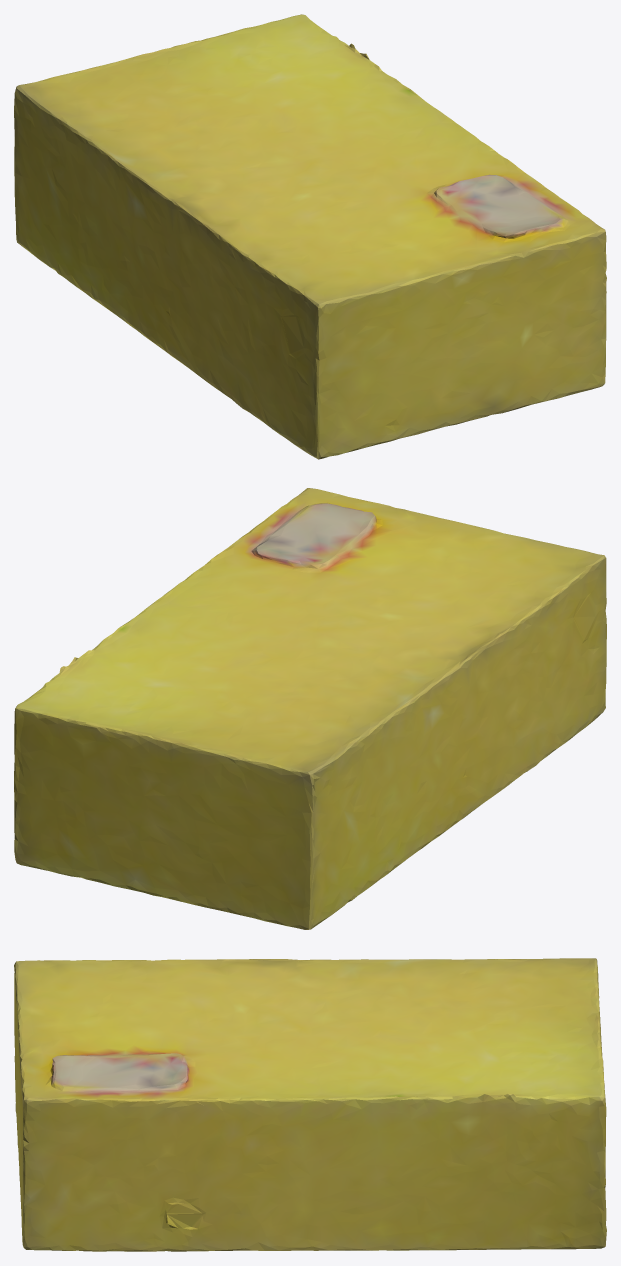
The model's file is scan.obj.
The picture shows the model from 3 angles, top to bottom: view 1: azimuth 30°, elevation 25°; view 2: azimuth 150°, elevation 25°; view 3: azimuth 270°, elevation 25°; orthographic projection. The views are drawn at different scales.
Parts seen in each view (by area): view 1: scan.ply; view 2: scan.ply; view 3: scan.ply.
Part boxes in pixels (x1,y1,x2,y2): scan.ply: [14, 14, 606, 459]; scan.ply: [14, 488, 606, 929]; scan.ply: [14, 958, 606, 1251].
Bounding box in the file's own units: 0.118 × 0.0607 × 0.2066.
